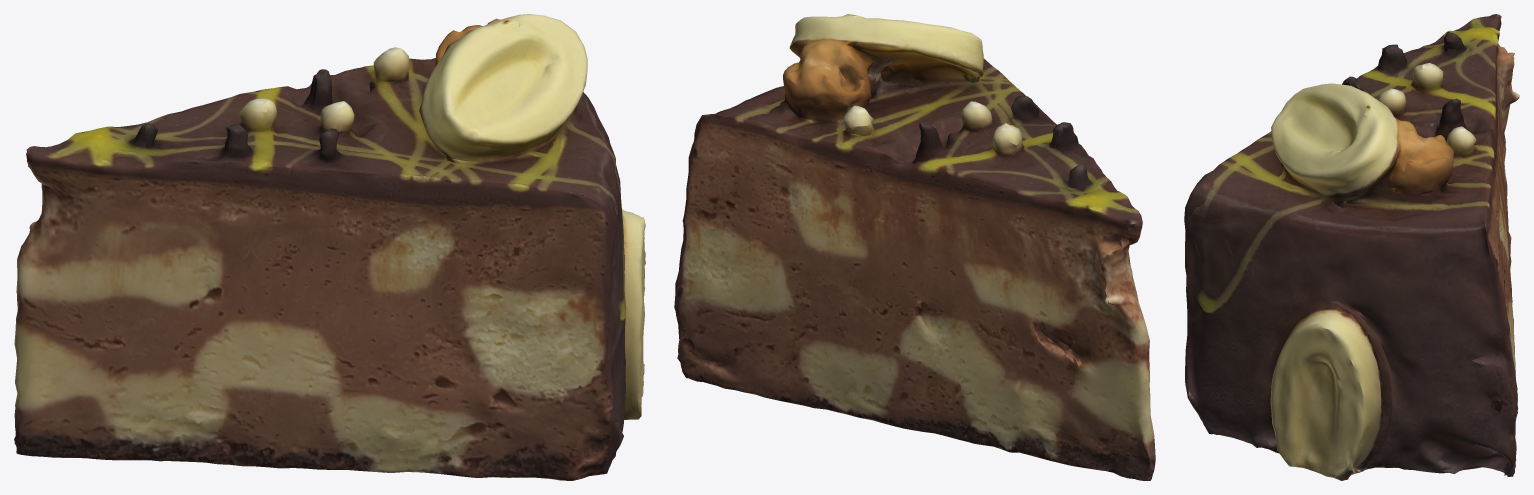
File: chocolate_cheesecake.glb
3 renders of one model, left to right at view 1: azimuth 30°, elevation 25°; view 2: azimuth 150°, elevation 25°; view 3: azimuth 270°, elevation 25°, orthographic. The views are drawn at different scales.
Parts seen in each view (by area): view 1: FrontSide_0; view 2: FrontSide_0; view 3: FrontSide_0.
Part boxes in pixels (x1,y1,x2,y2): FrontSide_0: (14,14,645,480); FrontSide_0: (674,14,1155,480); FrontSide_0: (1184,14,1519,480).
Size of what is drawn, in the model's own units: 2.5 by 1.67 by 1.56.
1 material, 1 textured.
